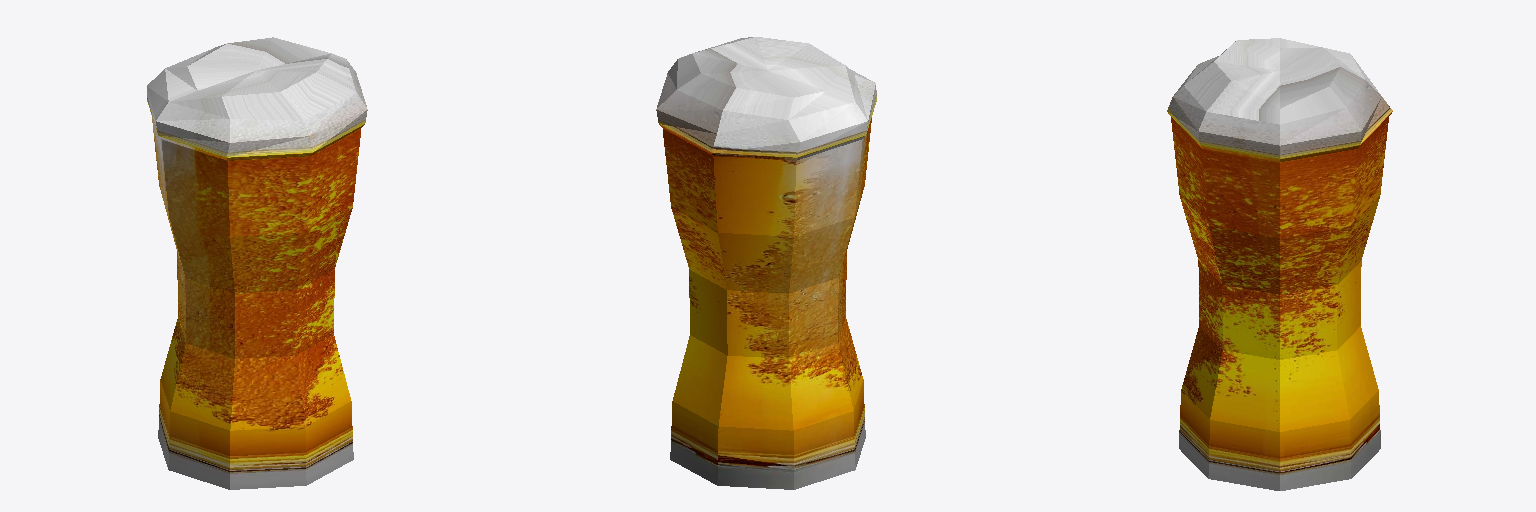
The picture shows the model from 3 angles: view 1: azimuth 30°, elevation 25°; view 2: azimuth 150°, elevation 25°; view 3: azimuth 270°, elevation 25°; orthographic projection.
Size of the model in its own units: 2.29 by 4.2 by 2.24.
1 materials, 1 textured.